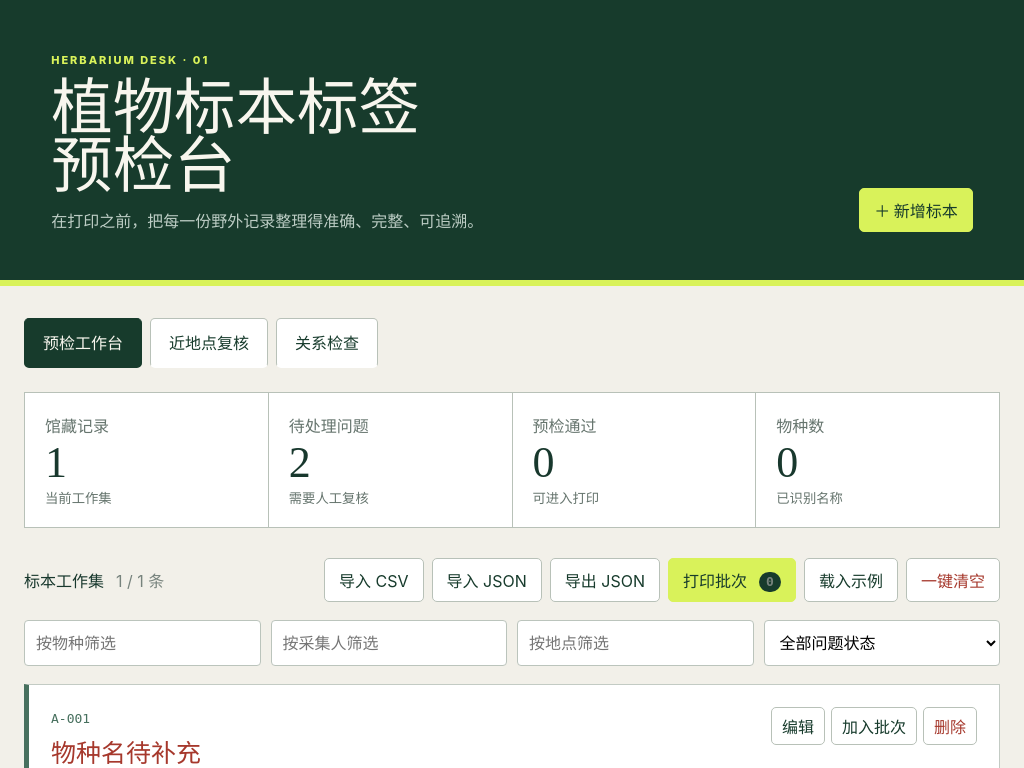
Scenario: 编辑撤销主链路 › 保存编辑后显示带采集编号的撤销入口，撤销恢复整条记录、预检统计与标签预览同步回退
Expected: the text "物种名待补充" is shown, [51,740,201,767]
Click the button "编辑" at (798, 726), box [771,707,825,745]
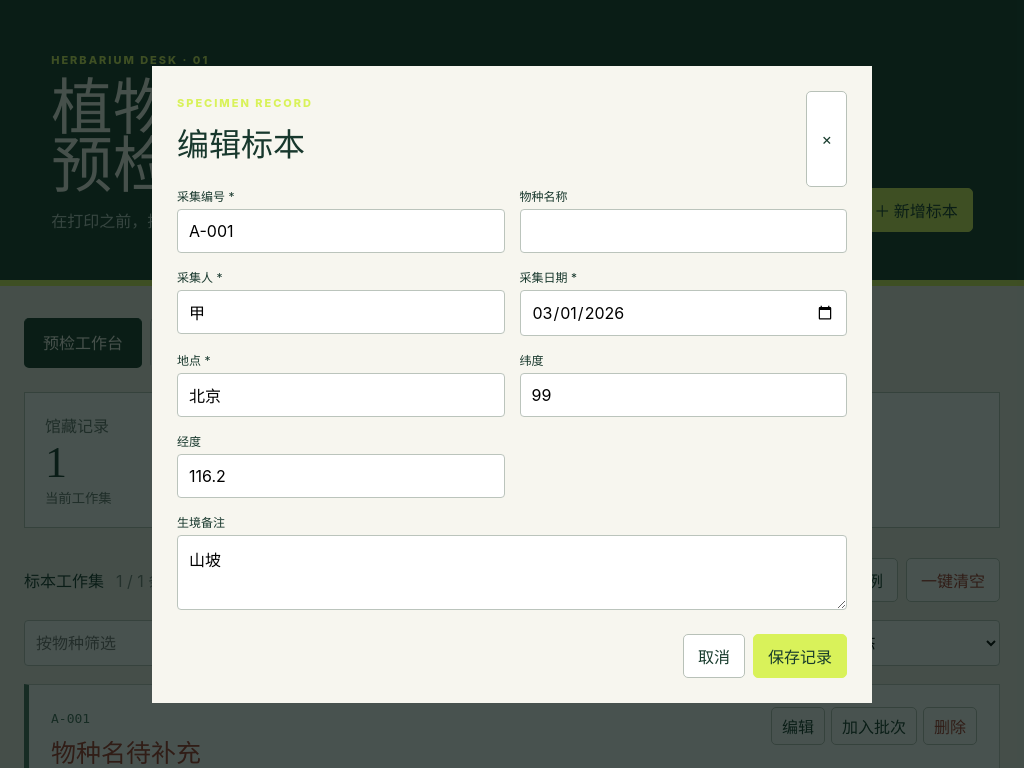
Type "柏 Cupressus" into the field labelled "物种名称" at (683, 230), box [520,208,847,252]
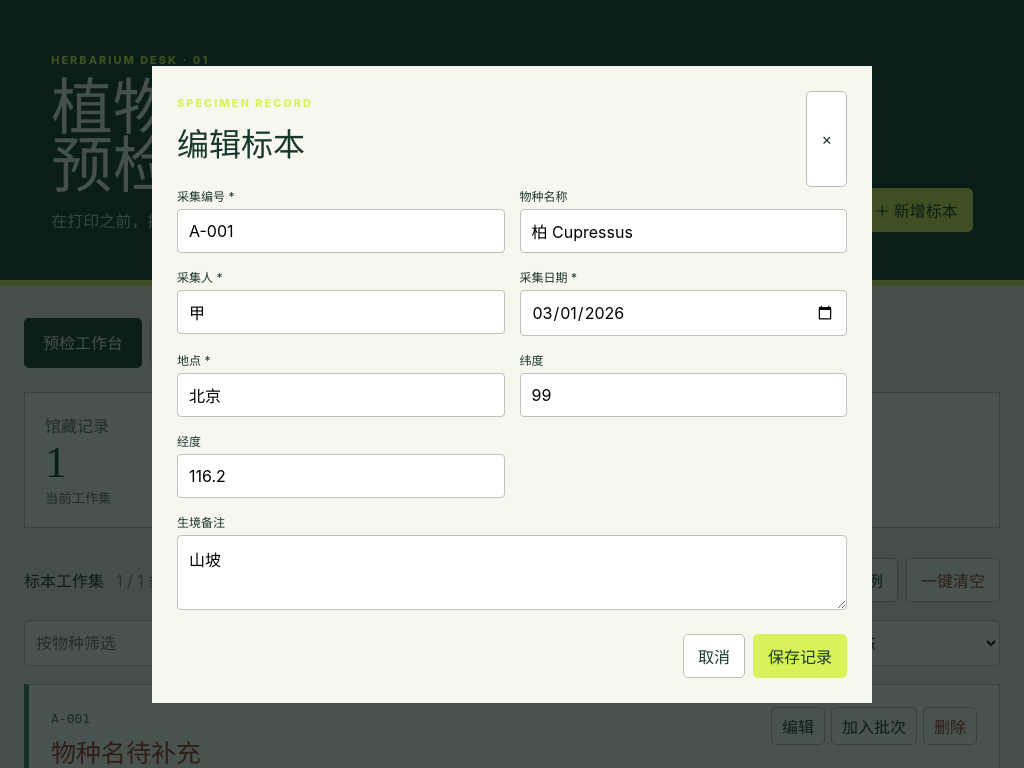
Replace the text in the field labelled "纬度" with "40" at (683, 394), box [520,372,847,416]
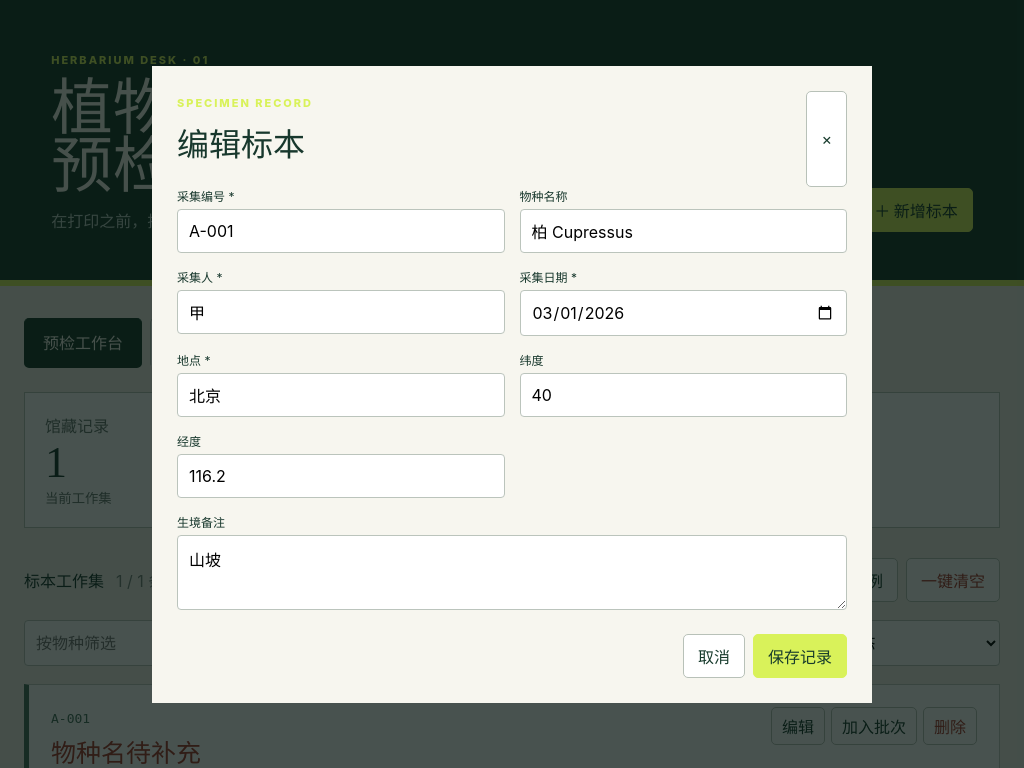
Click the button "保存记录" at (800, 656), box [753,634,847,678]
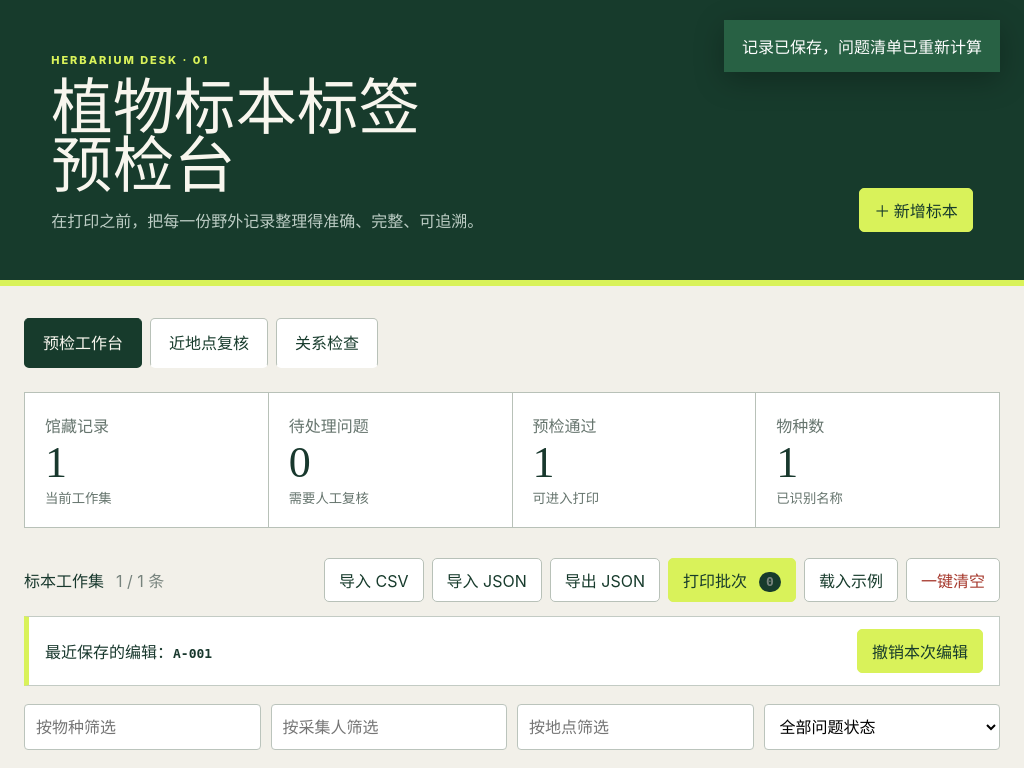
Expected: the button "撤销本次编辑" is shown
Expected: the element with class "undo-bar" shows "A-001", [173,646,212,661]
Expected: the text "物种名待补充" is gone
Click the button "撤销本次编辑" at (920, 651), box [857,629,983,673]
(page scrolled)
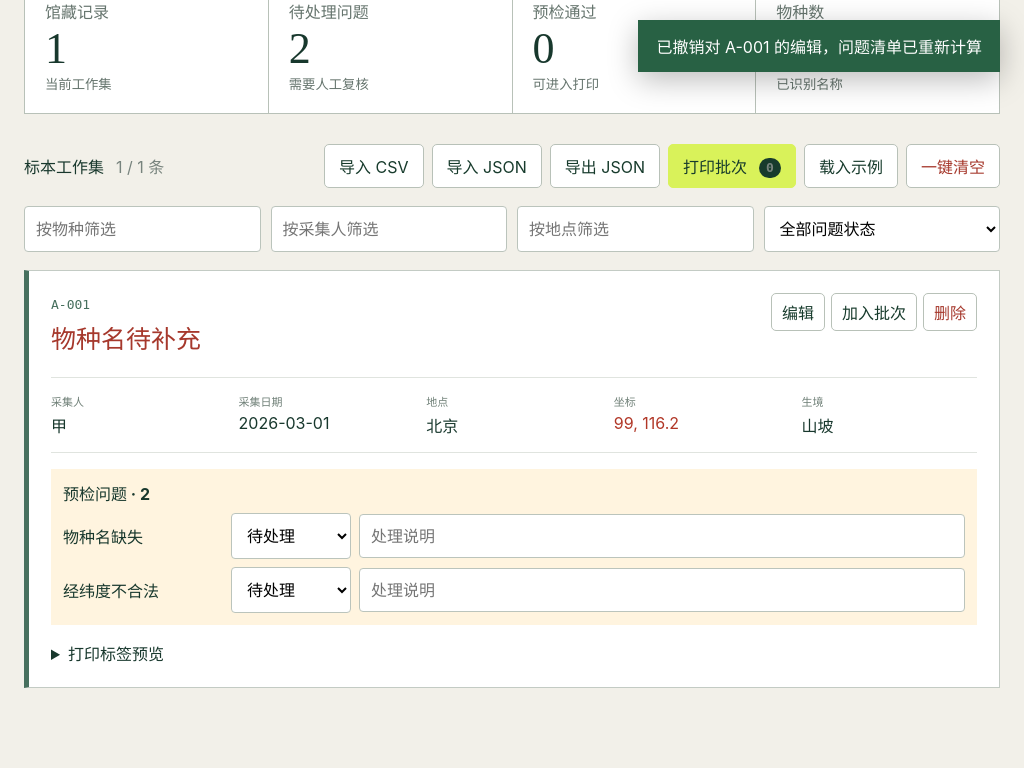
Expected: the button "撤销本次编辑" is gone
Expected: the text "物种名待补充" is shown, [51,326,201,353]
Expected: the text "99, 116.2" is shown, [614,413,679,433]
Click the heading "打印标签预览" at (116, 654), box [68,644,164,664]
(page scrolled)
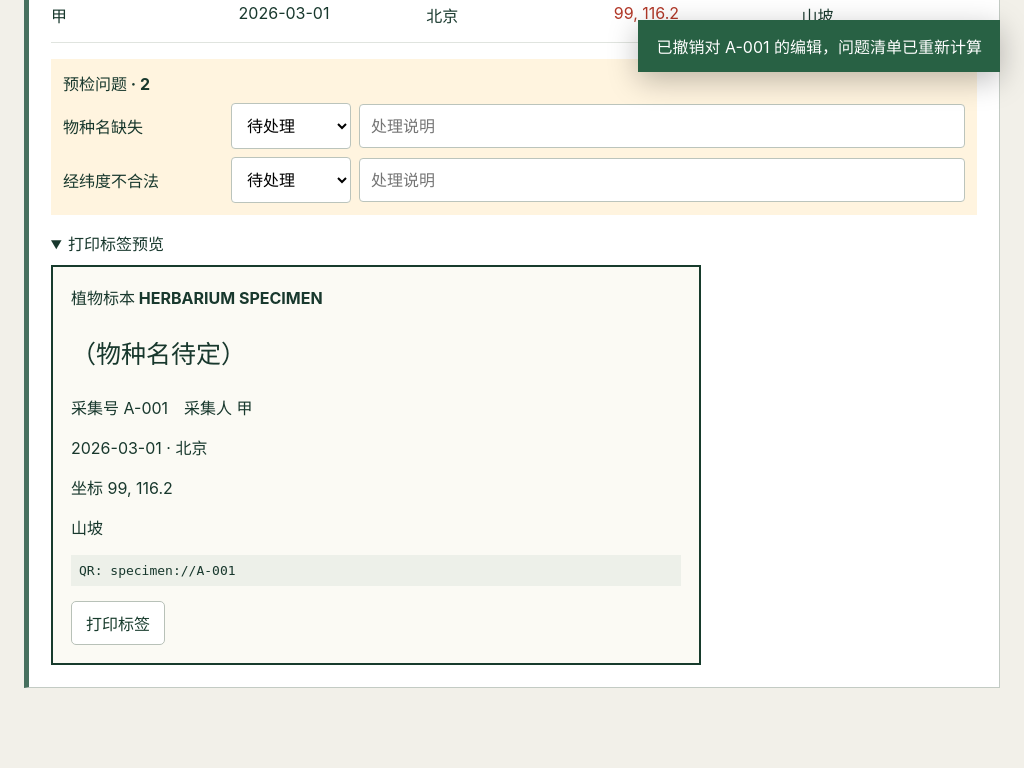
Expected: the text "柏 Cupressus" is not shown
Expected: the element that starts with "植物标本 HERBARIUM SPECIMEN" shows "（物种名待定）", [71,341,246,368]
